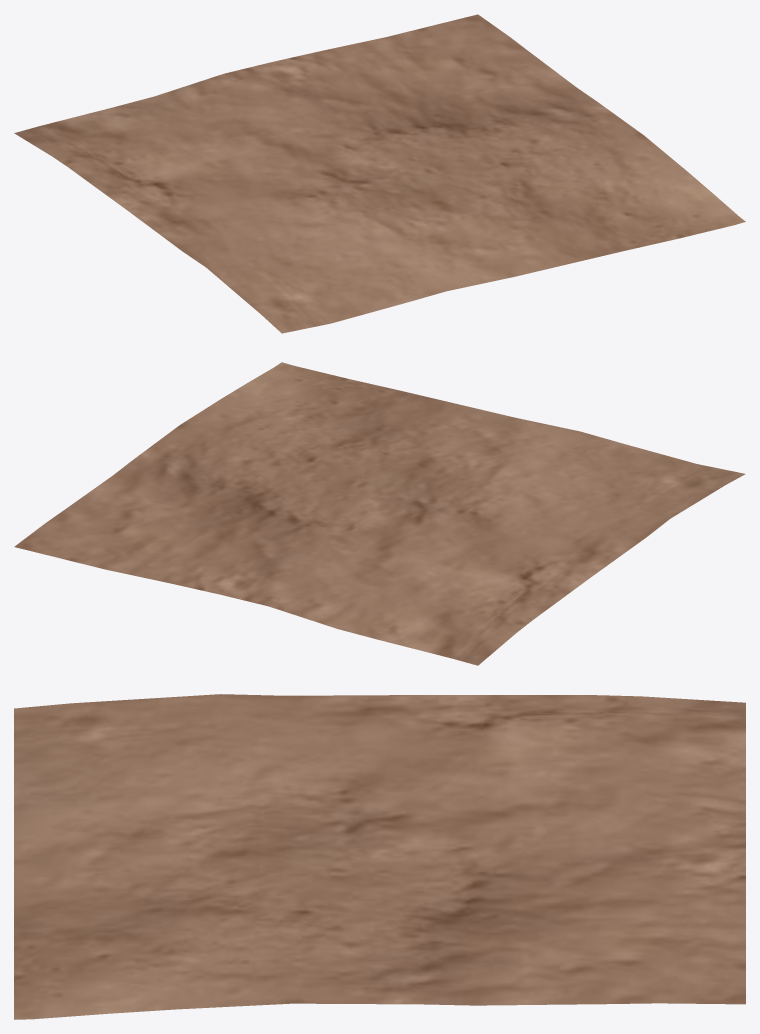
3 renders of one model, top to bottom at view 1: azimuth 30°, elevation 25°; view 2: azimuth 150°, elevation 25°; view 3: azimuth 270°, elevation 25°, orthographic. The views are drawn at different scales.
Bounding box in the file's own units: 128 × 3.88 × 128.
1 material, 1 textured.
